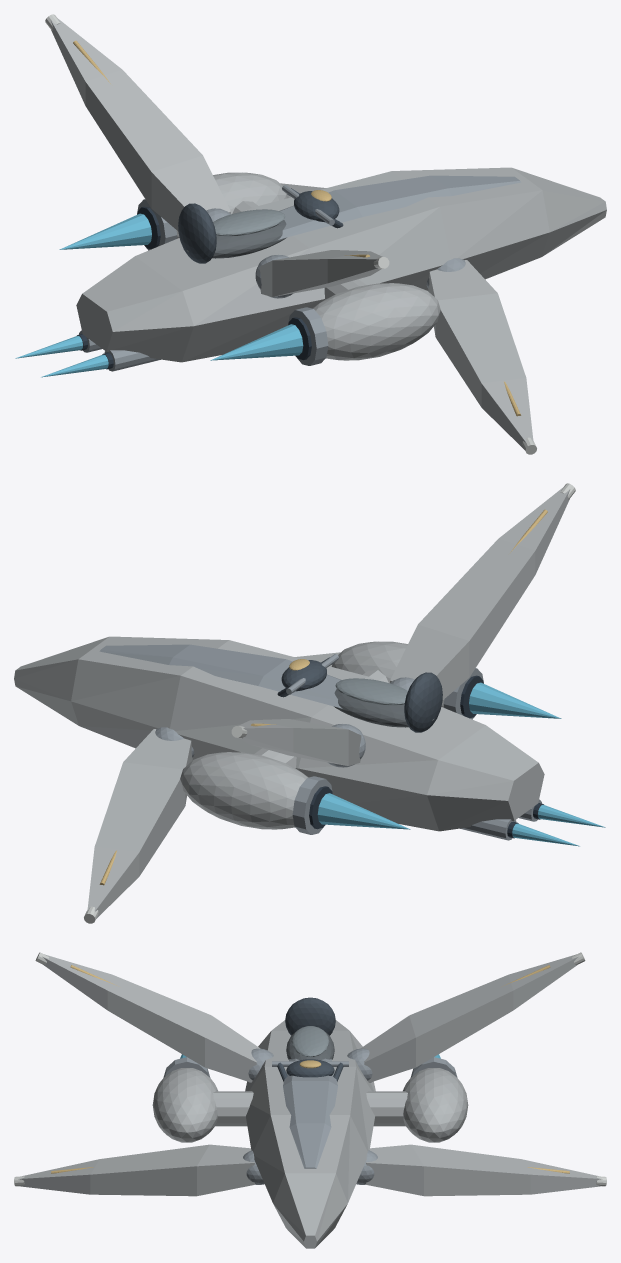
File: busan_pulse_silver_flight.glb
3 renders of one model, top to bottom at view 1: azimuth 30°, elevation 25°; view 2: azimuth 150°, elevation 25°; view 3: azimuth 270°, elevation 25°, orthographic. The views are drawn at different scales.
Visible parts, largest first — view 1: center_hull_0, rear_wings_7, front_wings_10, side_turbine_housing_12, central_panel_1, side_thruster_blue_flame_19, seat_back_3, turbine_rim_13, saddle_pad_20, saddle_2, lower_thruster_blue_flame_18, turbine_dark_inner_14 (+3 smaller); view 2: center_hull_0, rear_wings_7, front_wings_10, side_turbine_housing_12, central_panel_1, side_thruster_blue_flame_19, seat_back_3, turbine_rim_13, saddle_pad_20, saddle_2, lower_thruster_blue_flame_18, turbine_dark_inner_14 (+3 smaller); view 3: front_wings_10, rear_wings_7, center_hull_0, side_turbine_housing_12, central_panel_1, pod_arm_11, wing_hinges_6, seat_back_3, saddle_pad_20, turbine_rim_13, instrument_cluster_21, saddle_2 (+2 smaller).
Boxes of the visible parts, left/top/right/bottom form: center_hull_0: left=76, top=167, right=606, bottom=362; rear_wings_7: left=50, top=18, right=382, bottom=296; front_wings_10: left=280, top=183, right=533, bottom=449; side_turbine_housing_12: left=176, top=172, right=440, bottom=360; central_panel_1: left=278, top=175, right=521, bottom=239; side_thruster_blue_flame_19: left=59, top=213, right=303, bottom=360; seat_back_3: left=178, top=203, right=216, bottom=263; turbine_rim_13: left=137, top=199, right=328, bottom=365; saddle_pad_20: left=213, top=209, right=285, bottom=236; saddle_2: left=186, top=220, right=286, bottom=258; lower_thruster_blue_flame_18: left=15, top=335, right=108, bottom=377; turbine_dark_inner_14: left=137, top=206, right=311, bottom=360; center_hull_0: left=14, top=636, right=544, bottom=831; rear_wings_7: left=238, top=487, right=570, bottom=765; front_wings_10: left=87, top=652, right=340, bottom=918; side_turbine_housing_12: left=180, top=641, right=444, bottom=829; central_panel_1: left=99, top=644, right=342, bottom=708; side_thruster_blue_flame_19: left=317, top=682, right=561, bottom=829; seat_back_3: left=404, top=672, right=442, bottom=732; turbine_rim_13: left=292, top=668, right=483, bottom=834; saddle_pad_20: left=335, top=678, right=407, bottom=705; saddle_2: left=334, top=689, right=434, bottom=727; lower_thruster_blue_flame_18: left=512, top=804, right=605, bottom=846; turbine_dark_inner_14: left=309, top=675, right=483, bottom=829; front_wings_10: left=18, top=1144, right=602, bottom=1196; rear_wings_7: left=42, top=954, right=578, bottom=1082; center_hull_0: left=245, top=1020, right=375, bottom=1248; side_turbine_housing_12: left=152, top=1068, right=468, bottom=1142; central_panel_1: left=283, top=1058, right=337, bottom=1168; pod_arm_11: left=213, top=1091, right=407, bottom=1126; wing_hinges_6: left=243, top=1048, right=377, bottom=1184; seat_back_3: left=285, top=997, right=335, bottom=1035; saddle_pad_20: left=291, top=1026, right=329, bottom=1056; turbine_rim_13: left=163, top=1057, right=457, bottom=1077; instrument_cluster_21: left=286, top=1059, right=334, bottom=1077; saddle_2: left=286, top=1032, right=334, bottom=1059.
Bounding box in the file's own units: 4.93 × 1.8 × 5.37.
